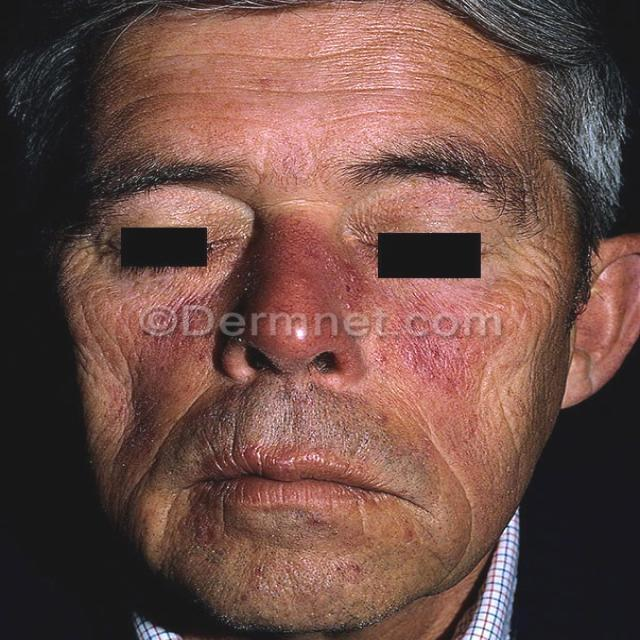Rosacea: (308, 241, 496, 405), (116, 244, 242, 413)
